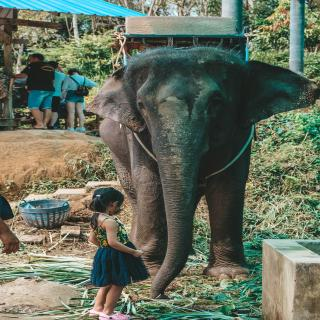Elephant: (83, 45, 318, 306)
